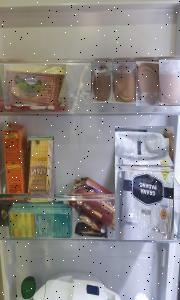Huevos: (112, 62, 138, 104), (136, 61, 160, 106), (159, 60, 180, 106), (91, 63, 114, 103)
Mantequilla: (4, 64, 66, 106)
Queso: (115, 126, 174, 240)
